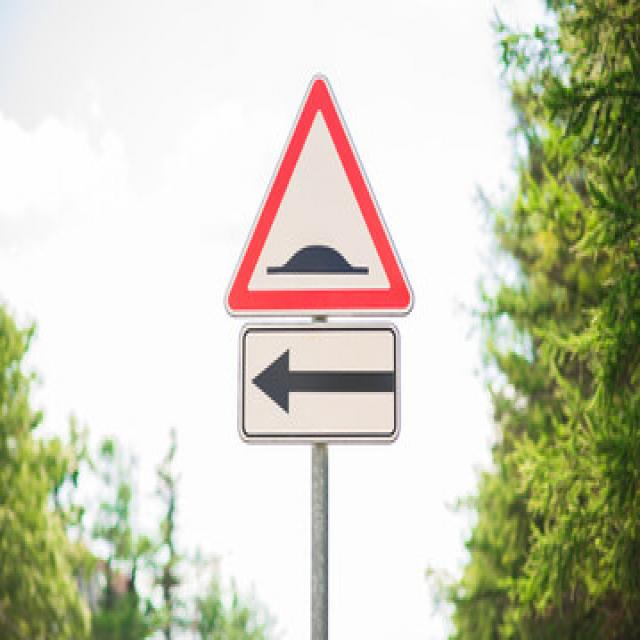hump: (224, 69, 416, 319)
